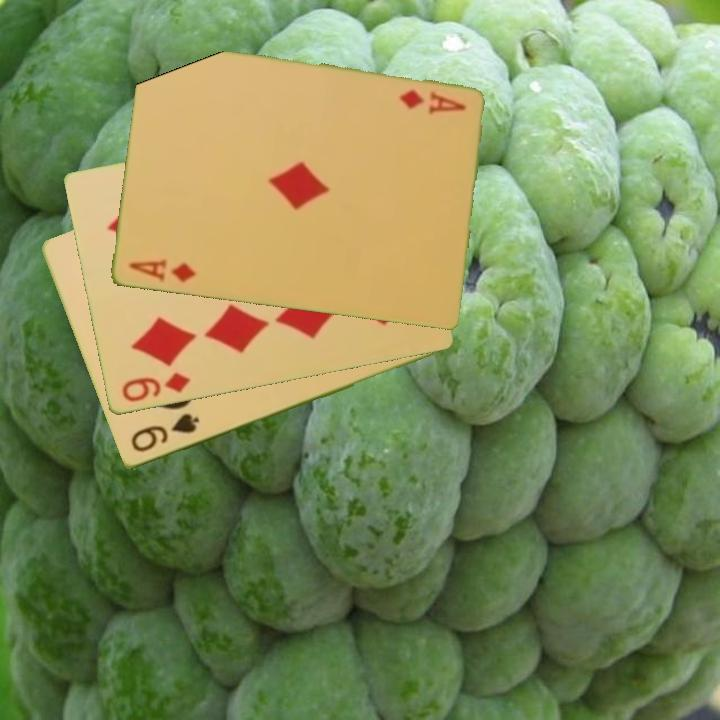9d: (118, 369, 193, 406)
9s: (127, 410, 203, 456)
Ad: (395, 86, 468, 117), (125, 256, 199, 286)
